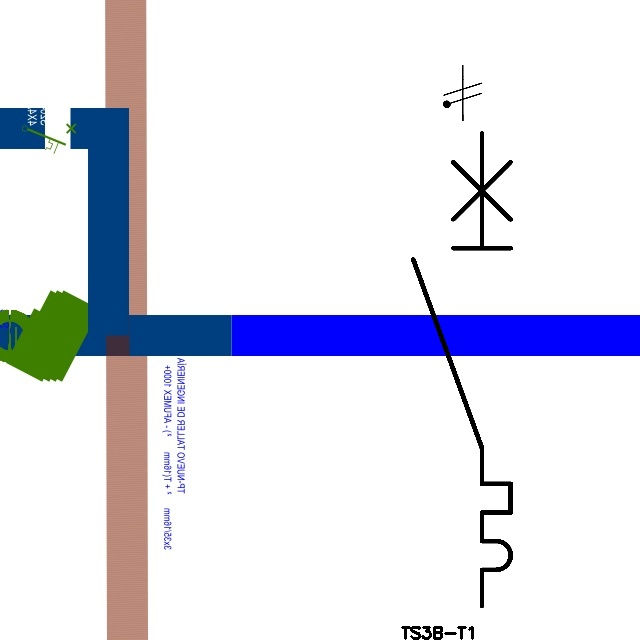interruptor_termomagnetico: (401, 121, 523, 618)
